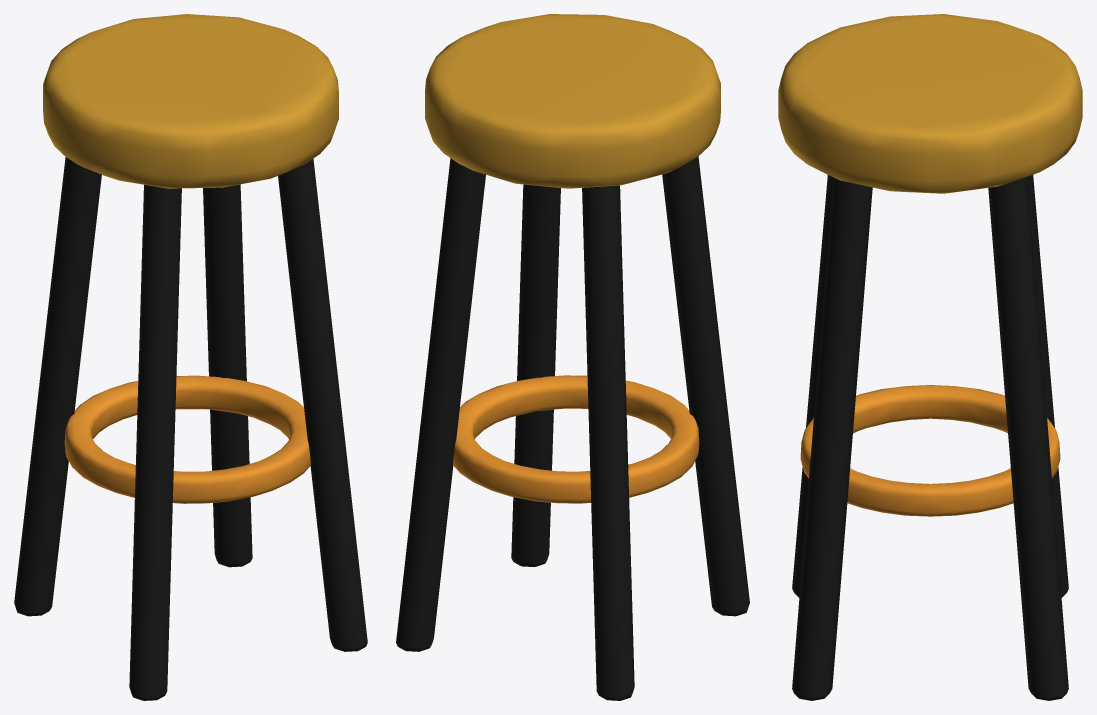
Rendered from barstool_04_yellow.fbx.
The picture shows the model from 3 angles, left to right: view 1: azimuth 30°, elevation 25°; view 2: azimuth 150°, elevation 25°; view 3: azimuth 270°, elevation 25°; orthographic projection. The views are drawn at different scales.
Parts seen in each view (by area): view 1: barstool_04_yellow; view 2: barstool_04_yellow; view 3: barstool_04_yellow.
Part boxes in pixels (x1,y1,x2,y2): barstool_04_yellow: [14, 14, 367, 700]; barstool_04_yellow: [396, 14, 749, 700]; barstool_04_yellow: [778, 14, 1082, 700].
Bounding box in the file's own units: 43.49 × 90.36 × 43.49.
2 materials, 2 textured.
